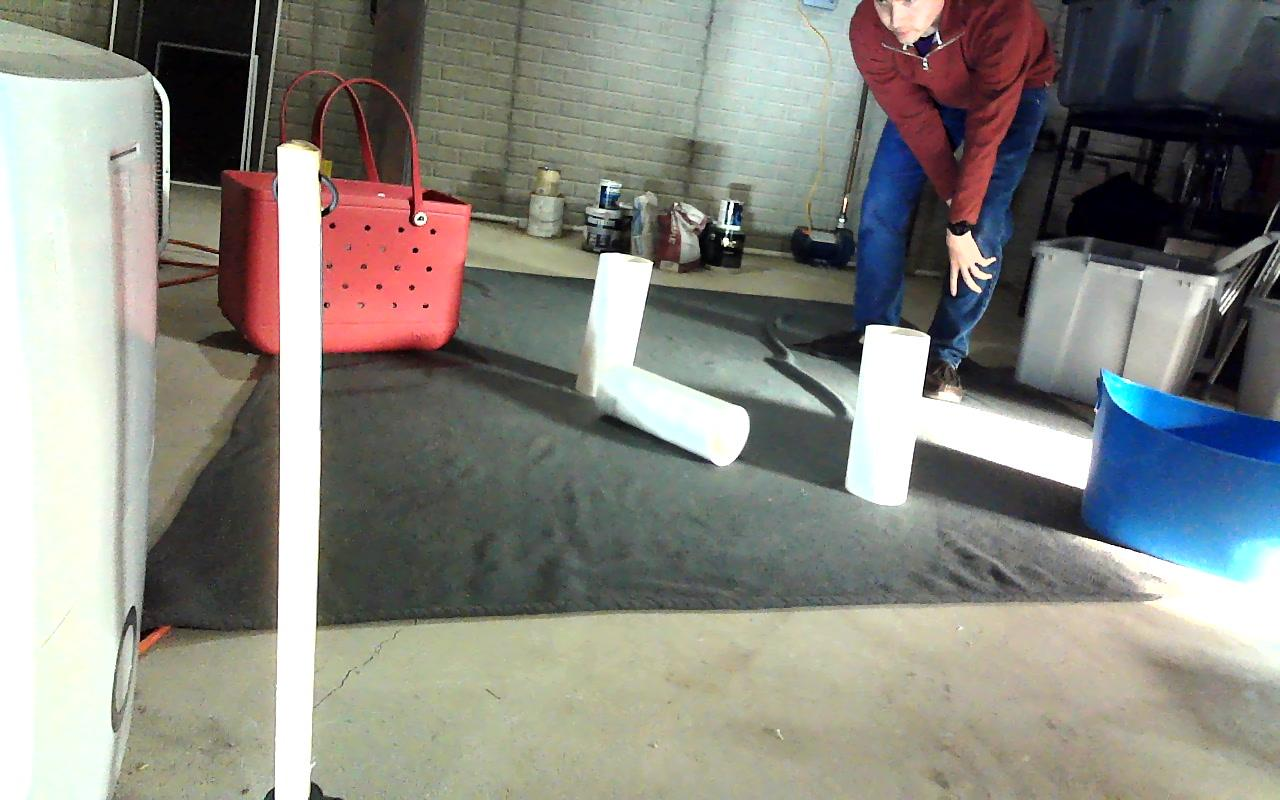coral: (598, 364, 749, 465), (845, 325, 928, 505), (590, 252, 652, 377)
